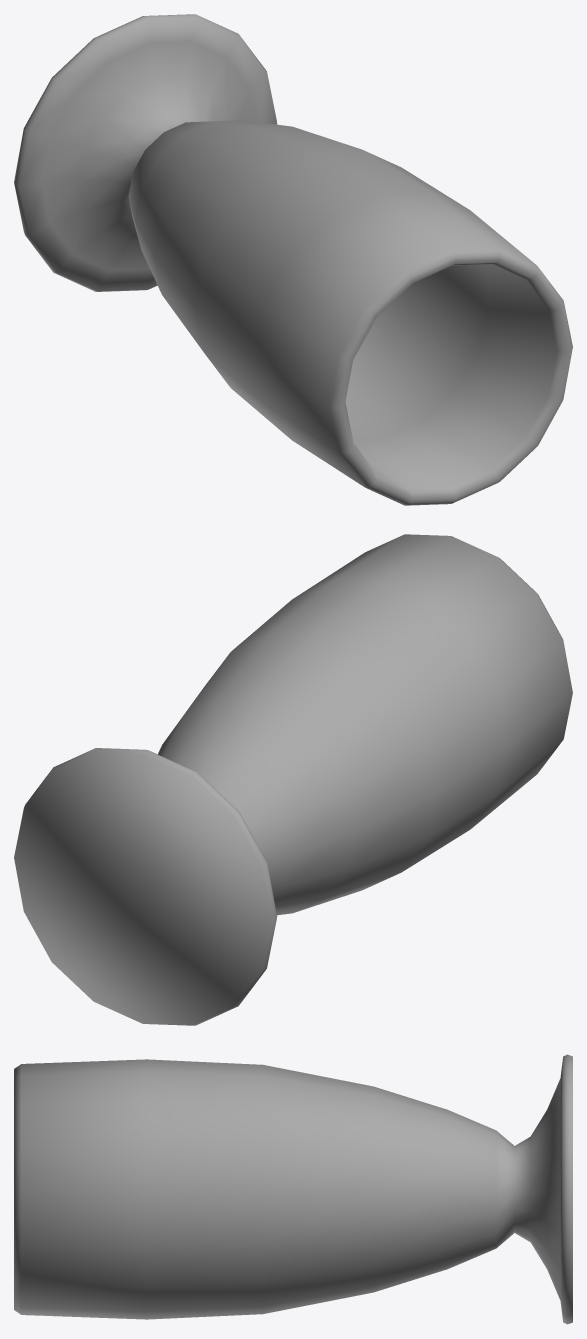
The model's file is MeshCup_20_0_GeomSubset_0.obj.
3 views of the same model, one above another, from view 1: azimuth 30°, elevation 25°; view 2: azimuth 150°, elevation 25°; view 3: azimuth 270°, elevation 25° (orthographic). The views are drawn at different scales.
Visible parts, largest first — view 1: MeshCup_20_0_GeomSubset_0; view 2: MeshCup_20_0_GeomSubset_0; view 3: MeshCup_20_0_GeomSubset_0.
Boxes of the visible parts, bbox=[...] form: MeshCup_20_0_GeomSubset_0: bbox=[14, 14, 572, 505]; MeshCup_20_0_GeomSubset_0: bbox=[14, 534, 572, 1025]; MeshCup_20_0_GeomSubset_0: bbox=[14, 1054, 572, 1324].
Bounding box in the file's own units: 0.1041 × 0.1041 × 0.2153.
